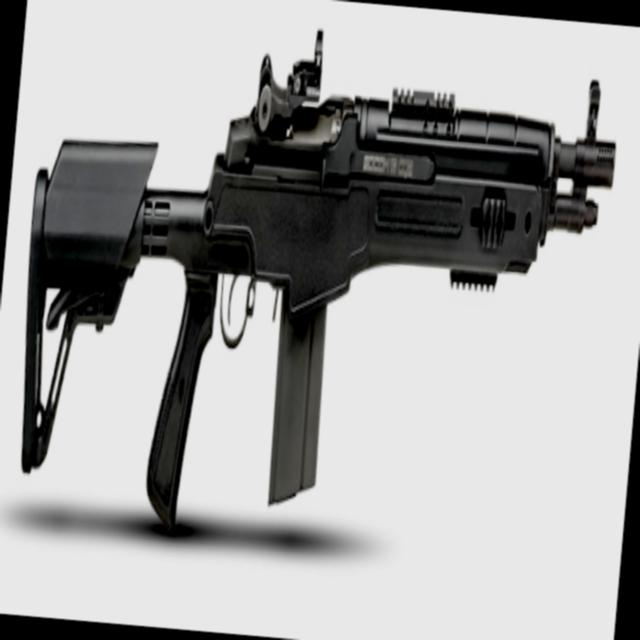rifle: (0, 0, 635, 565)
